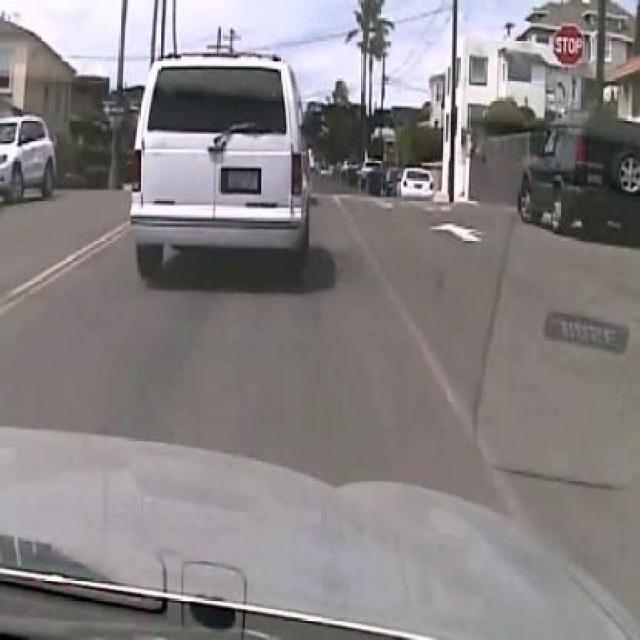traffic_sign: (550, 22, 587, 69)
